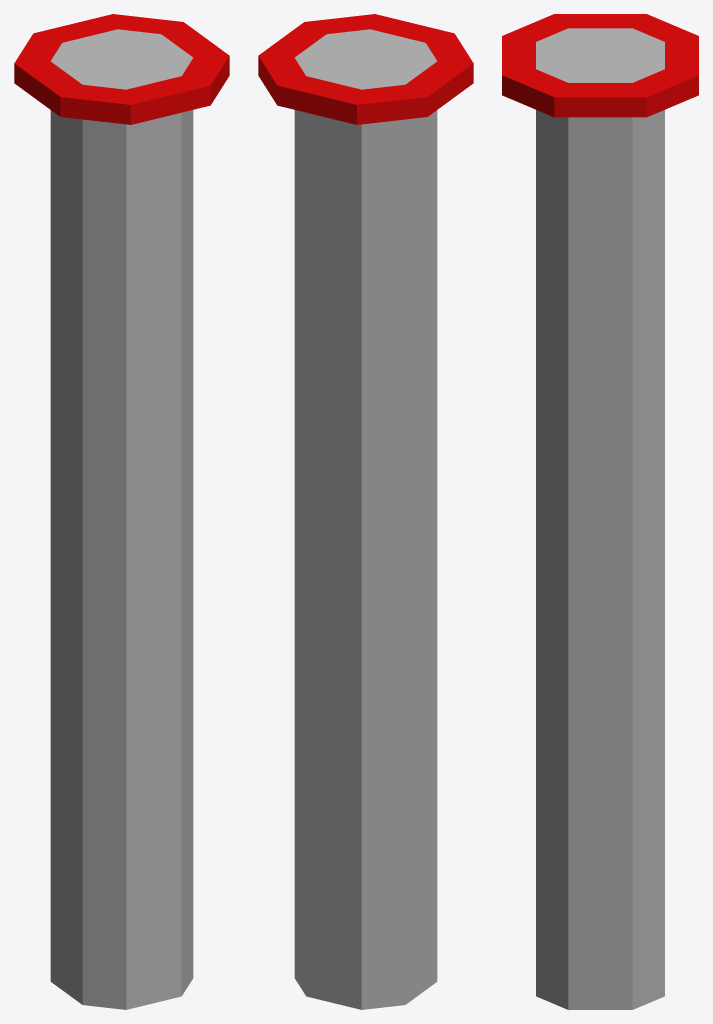
The model's file is platform.fbx.
3 views of the same model, side by side, from view 1: azimuth 30°, elevation 25°; view 2: azimuth 150°, elevation 25°; view 3: azimuth 270°, elevation 25° (orthographic).
Parts seen in each view (by area): view 1: platform; view 2: platform; view 3: platform.
Part boxes in pixels (x1,y1,x2,y2): platform: (14, 14, 229, 1009); platform: (258, 14, 473, 1009); platform: (502, 14, 698, 1009).
Size of the model in its own units: 17.15 by 89.09 by 17.15.
